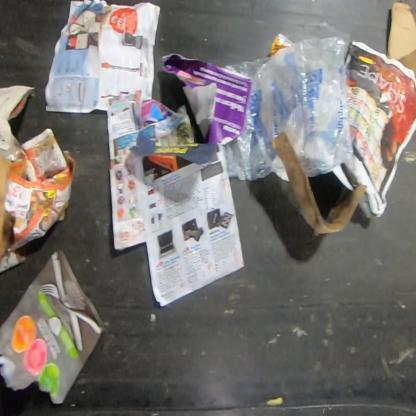cardboard: (270, 130, 368, 235), (386, 1, 415, 81), (0, 156, 15, 266)
soft_plastic: (223, 36, 355, 183)
